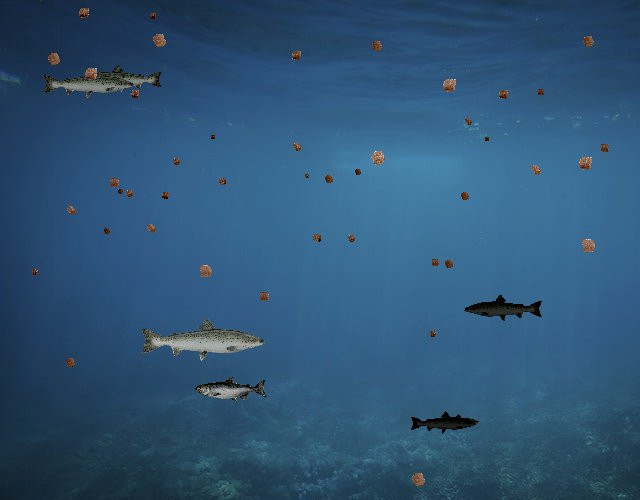Fish: (138, 316, 267, 362), (42, 66, 136, 100), (78, 63, 164, 94), (464, 294, 545, 323), (195, 377, 268, 403), (410, 410, 478, 434), (433, 414, 480, 431)
Pellet: (435, 71, 464, 100), (571, 150, 599, 178), (576, 30, 600, 54), (286, 45, 307, 66), (455, 187, 474, 206), (343, 230, 360, 247), (426, 327, 440, 341), (28, 265, 42, 279)
